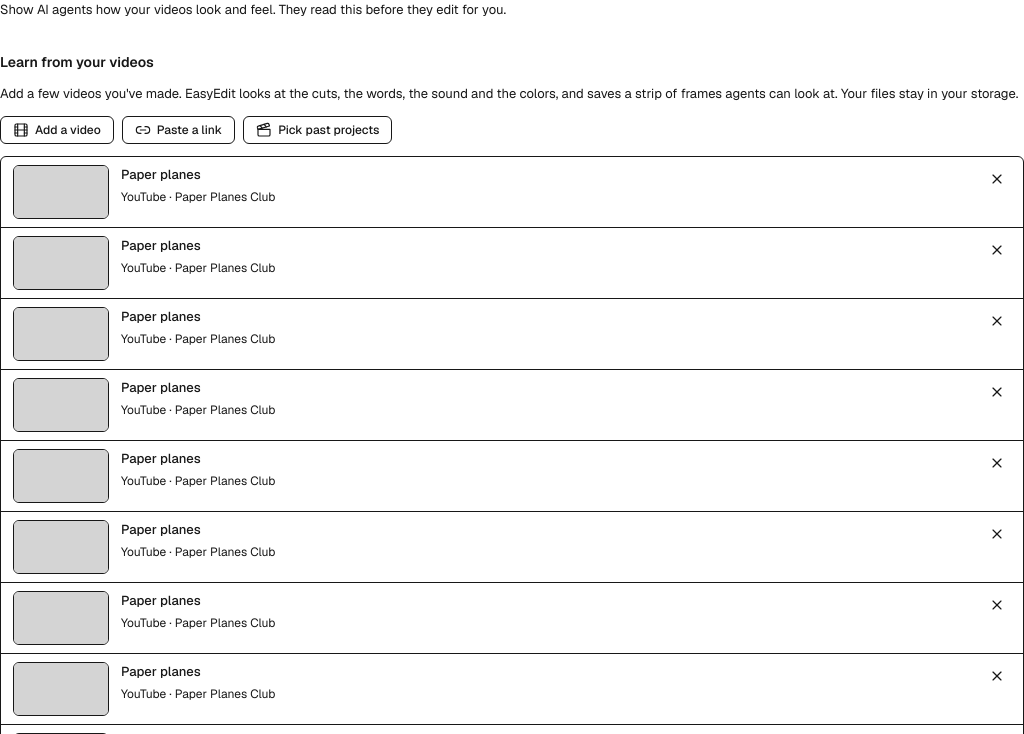
learning from past projects › says when the ticked projects fill the style, and locks the rest
What coordinates should you click on to do the following:
click the button "Pick past projects"
I would click on:
 (318, 130)
Its box is [243,116,392,144].
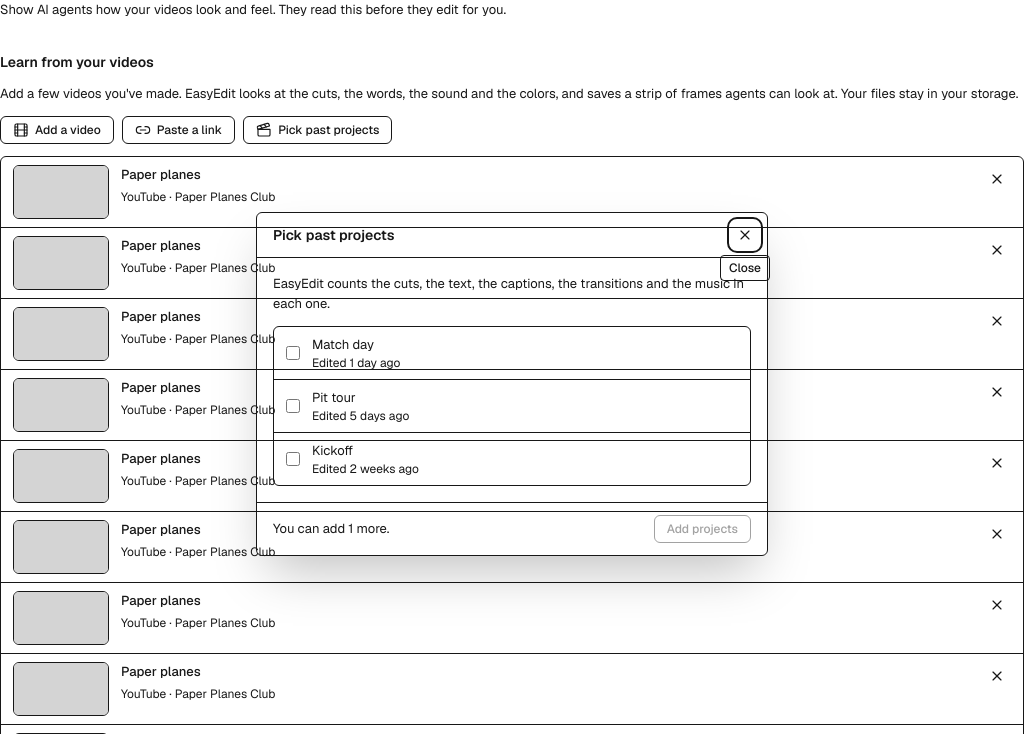
Expected: the text "You can add 1 more." is shown, [273,519,390,539]
What coordinates should you click on to do the following:
click the checkbox labelled "Kickoff Edited 2 weeks ago"
I would click on:
 (293, 459)
Its box is [286,452,300,466].
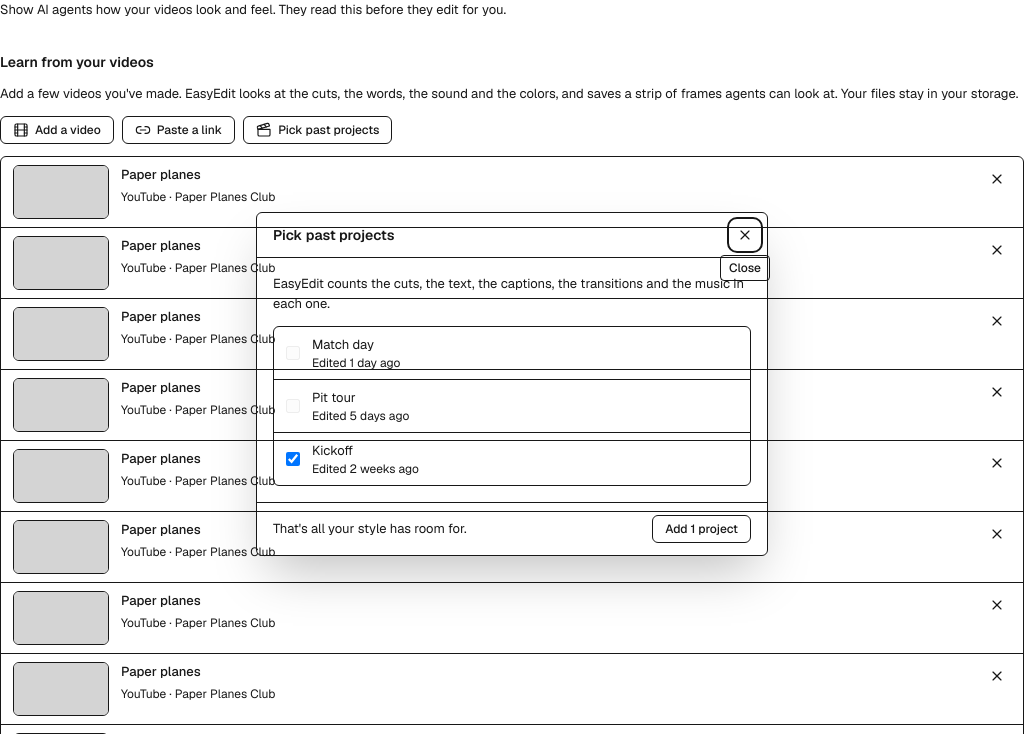
Expected: the text "That's all your style has room for." is shown, [273,519,467,539]
